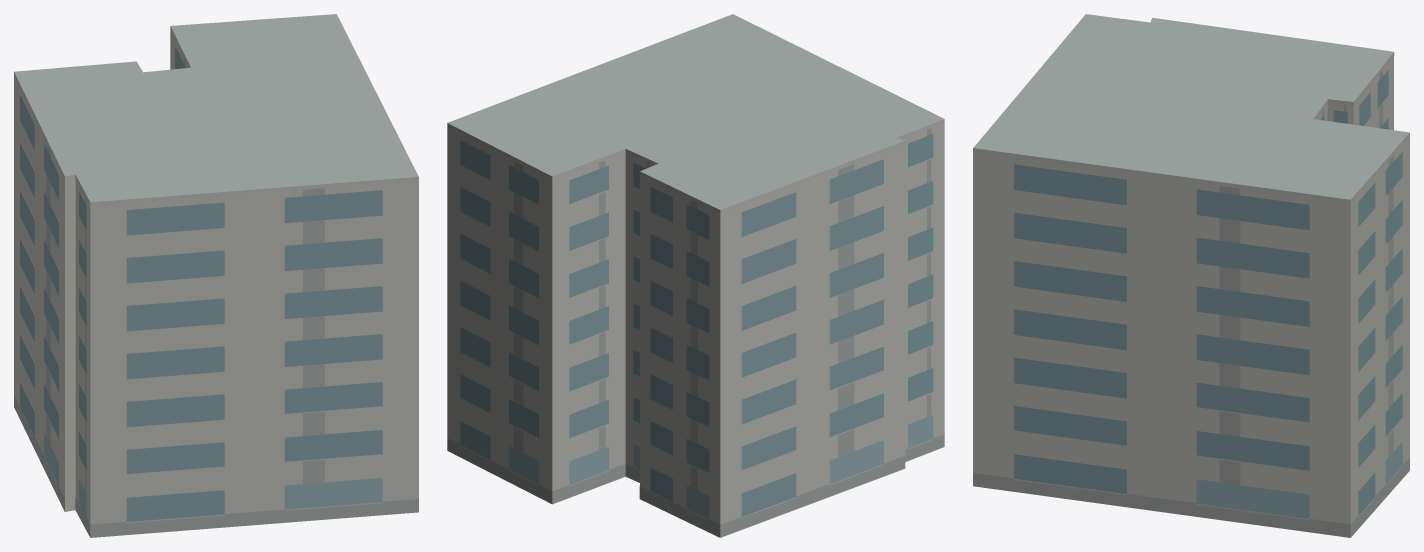
The model's file is survey-upis-32569737.glb.
The picture shows the model from 3 angles, left to right: view 1: azimuth 30°, elevation 25°; view 2: azimuth 150°, elevation 25°; view 3: azimuth 270°, elevation 25°; orthographic projection. The views are drawn at different scales.
Visible parts, largest first — view 1: survey-upis-32569737.tmp; view 2: survey-upis-32569737.tmp; view 3: survey-upis-32569737.tmp.
Part boxes in pixels (<box>): survey-upis-32569737.tmp: <box>14,14,418,537</box>; survey-upis-32569737.tmp: <box>447,14,944,537</box>; survey-upis-32569737.tmp: <box>973,14,1409,537</box>.
Bounding box in the file's own units: 23.75 × 20.15 × 23.59.
